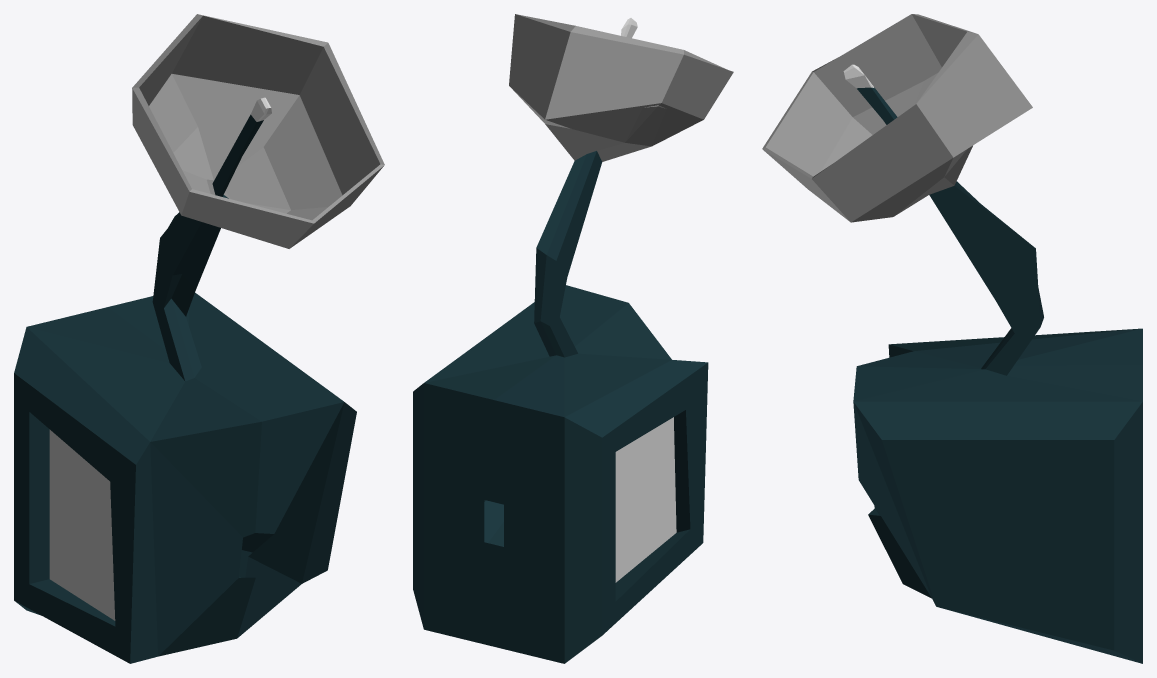
File: Satelites_MainBoxTrash.fbx
3 renders of one model, left to right at view 1: azimuth 30°, elevation 25°; view 2: azimuth 150°, elevation 25°; view 3: azimuth 270°, elevation 25°, orthographic. The views are drawn at different scales.
Parts seen in each view (by area): view 1: Cube; view 2: Cube; view 3: Cube.
Part boxes in pixels (box(x1,y1,x2,y2)): Cube: box(14, 14, 384, 663); Cube: box(413, 14, 733, 663); Cube: box(762, 14, 1142, 663).
Size of the model in its own units: 200 by 566 by 328.
